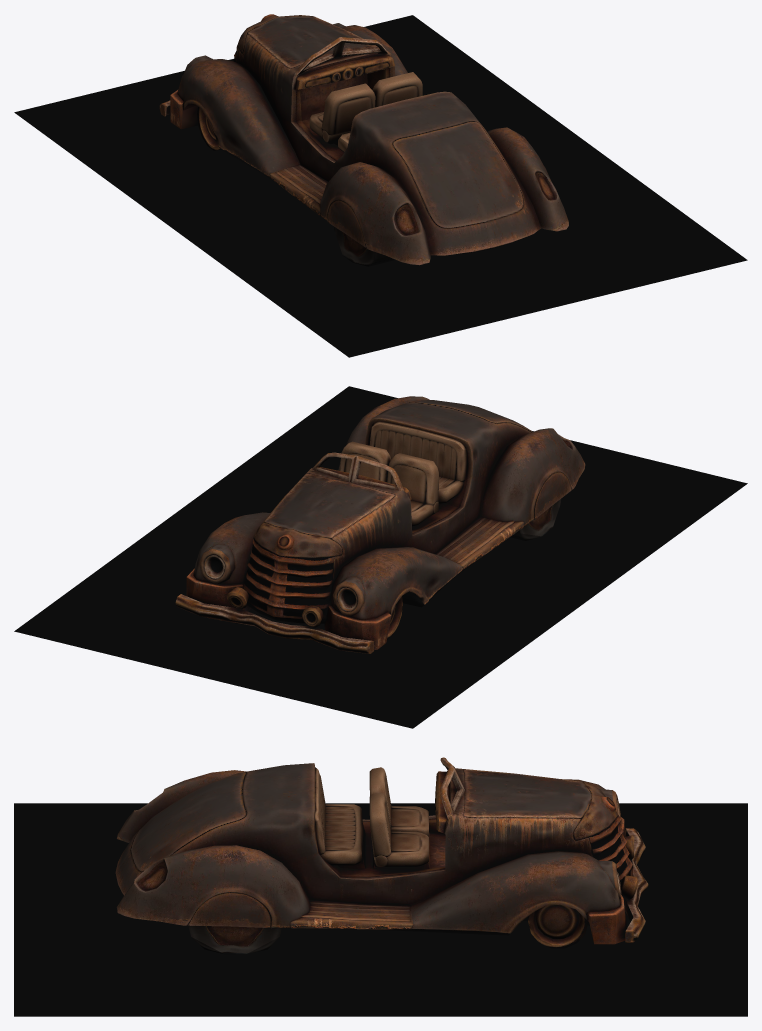
Rendered from fallout_1_coupe.glb.
The picture shows the model from 3 angles, top to bottom: view 1: azimuth 30°, elevation 25°; view 2: azimuth 150°, elevation 25°; view 3: azimuth 270°, elevation 25°; orthographic projection. The views are drawn at different scales.
Parts seen in each view (by area): view 1: Plane001, Object001_Material #276_0; view 2: Plane001, Object001_Material #276_0; view 3: Plane001, Object001_Material #276_0.
Boxes of the visible parts, left/top/right/bottom form: Plane001: left=14, top=15, right=747, bottom=357; Object001_Material #276_0: left=159, top=14, right=568, bottom=266; Plane001: left=14, top=386, right=747, bottom=728; Object001_Material #276_0: left=175, top=396, right=585, bottom=653; Plane001: left=14, top=803, right=747, bottom=1016; Object001_Material #276_0: left=115, top=757, right=648, bottom=954.
Size of the model in its own units: 197 by 60.28 by 287.
2 materials, 2 textured.
